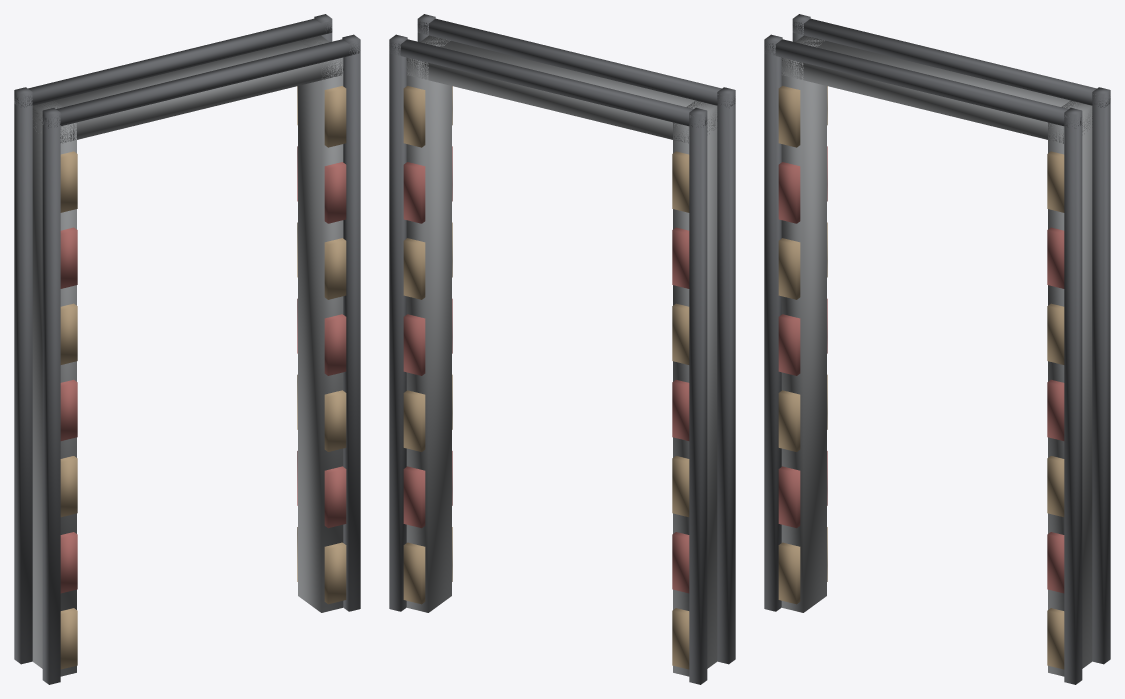
File: doorway_brick_return_w96_h200_d16.glb
3 renders of one model, left to right at view 1: azimuth 30°, elevation 25°; view 2: azimuth 150°, elevation 25°; view 3: azimuth 330°, elevation 25°, orthographic.
Parts seen in each view (by area): view 1: world; view 2: world; view 3: world.
Boxes of the visible parts, x1,y1,x2,y2 form: world: [14, 14, 360, 684]; world: [389, 14, 735, 684]; world: [764, 14, 1110, 684].
Bounding box in the file's own units: 1.22 × 2.14 × 0.2365.
